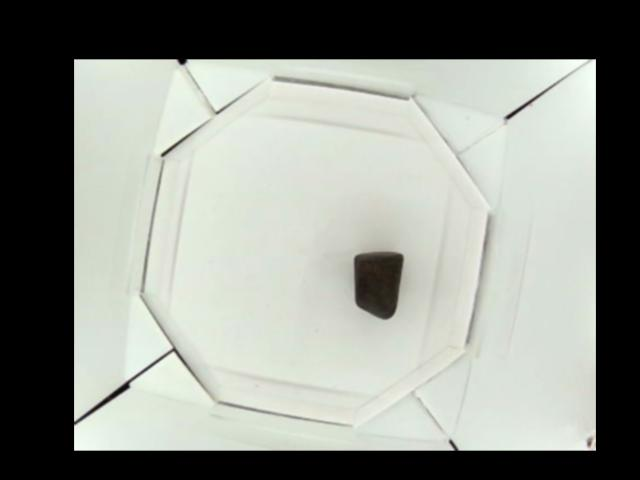Pebble: (355, 250, 401, 320)
